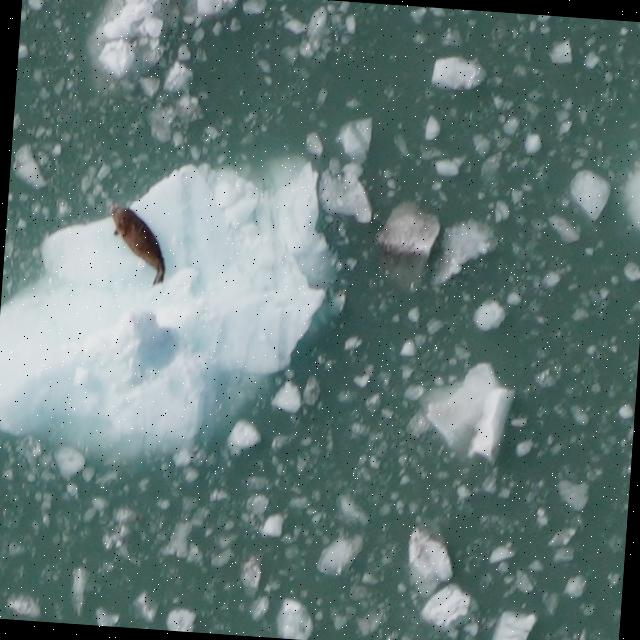seal: (100, 199, 173, 291)
